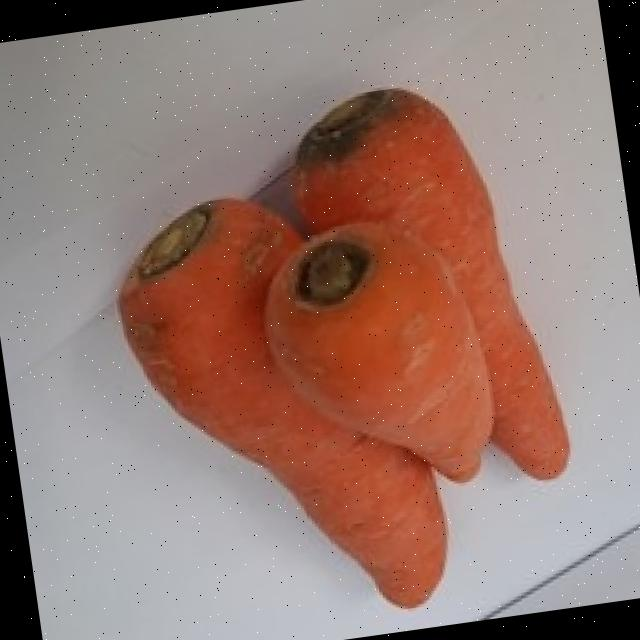carrot: (124, 204, 449, 610), (299, 94, 573, 480), (270, 228, 496, 482)
